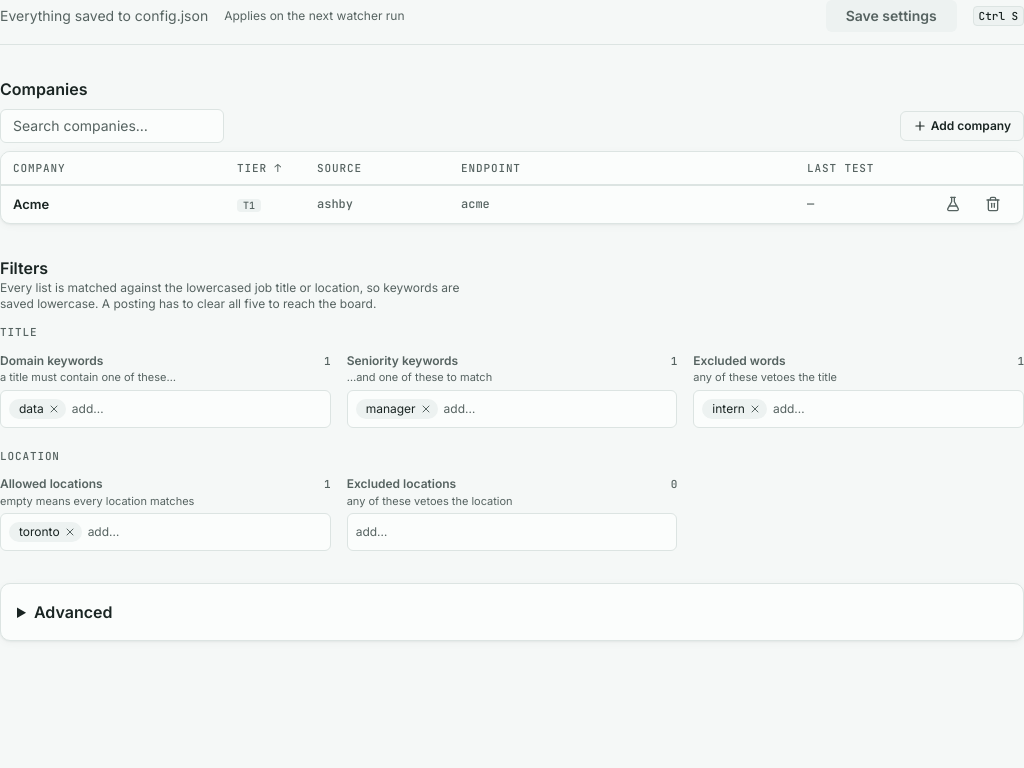
Test case: SettingsPage › keeps the company when the confirm dialog is cancelled
expect the button "Acme" is shown: met, box [13,194,49,214]
Click the button named "Delete Acme" at point(993, 204), box [975,186,1011,222]
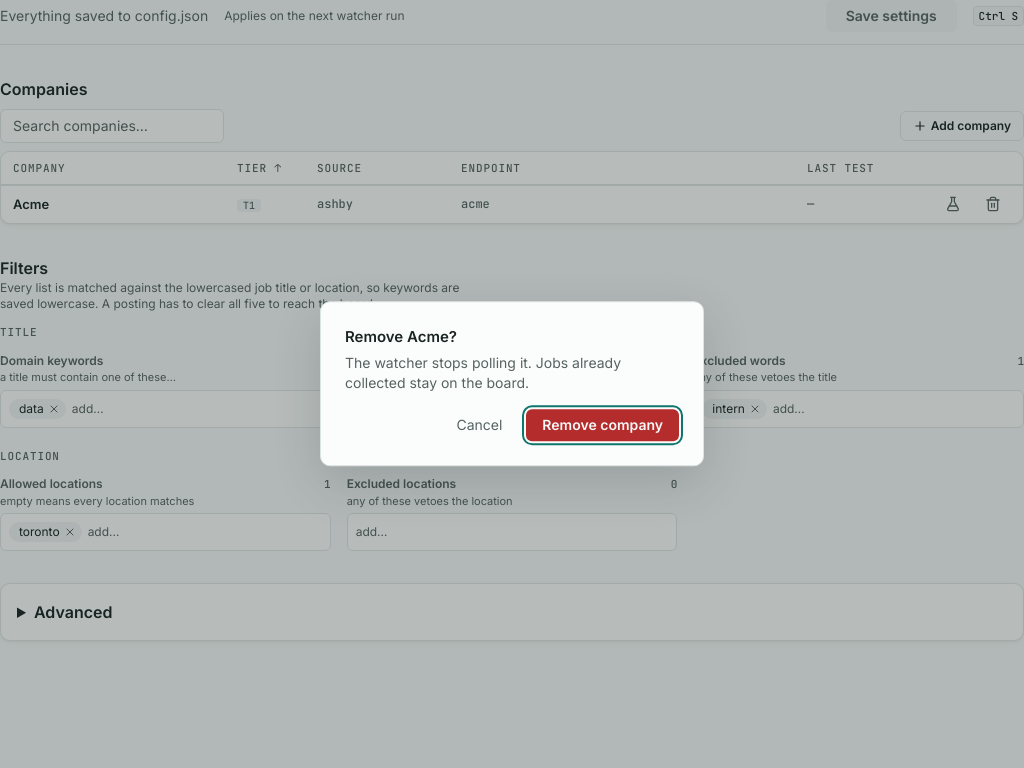
Click the button "Cancel" at point(479, 426), box [440,410,518,442]
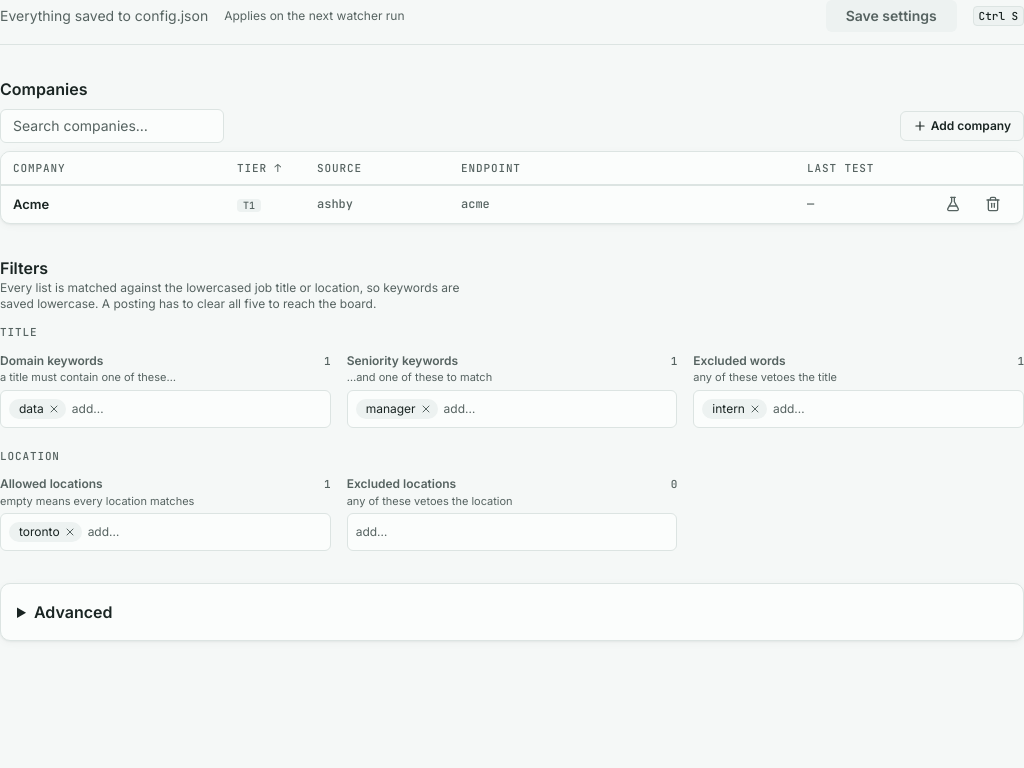
expect the button "Acme" is shown: met, box [13,194,49,214]
expect the heading "Remove Acme?" is gone: met
